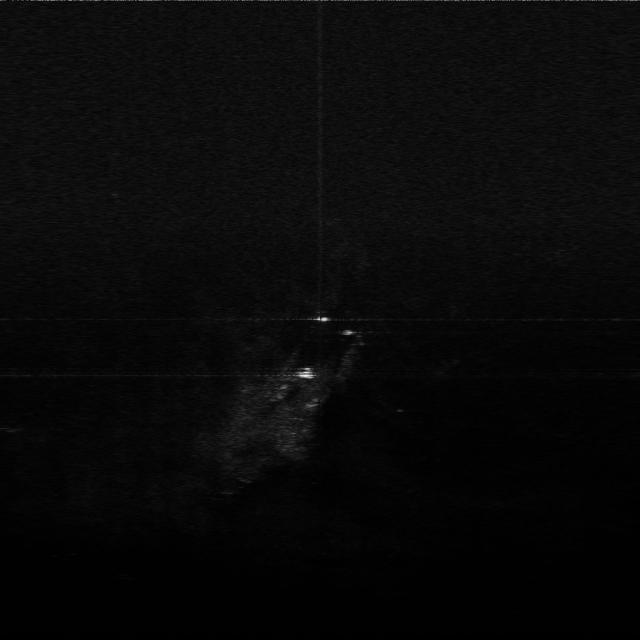rov: (292, 362, 319, 382)
